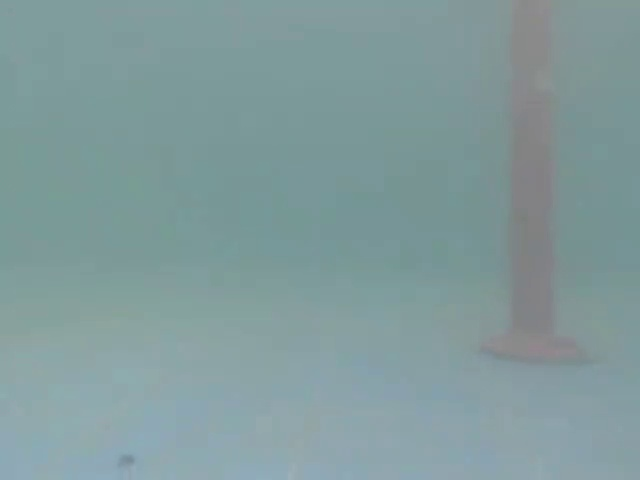flare: (477, 0, 591, 378)
